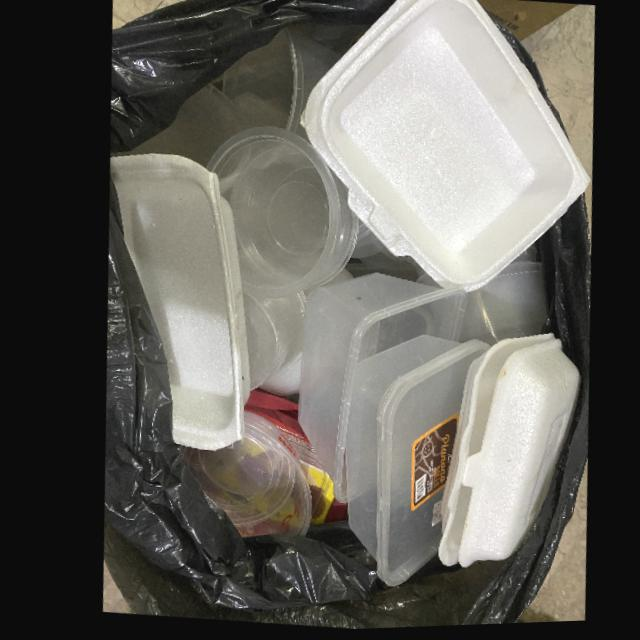plastic: (289, 275, 462, 505), (337, 338, 483, 590), (202, 128, 347, 300)
styrofoam: (297, 0, 587, 296), (106, 154, 243, 452), (427, 337, 573, 571)
